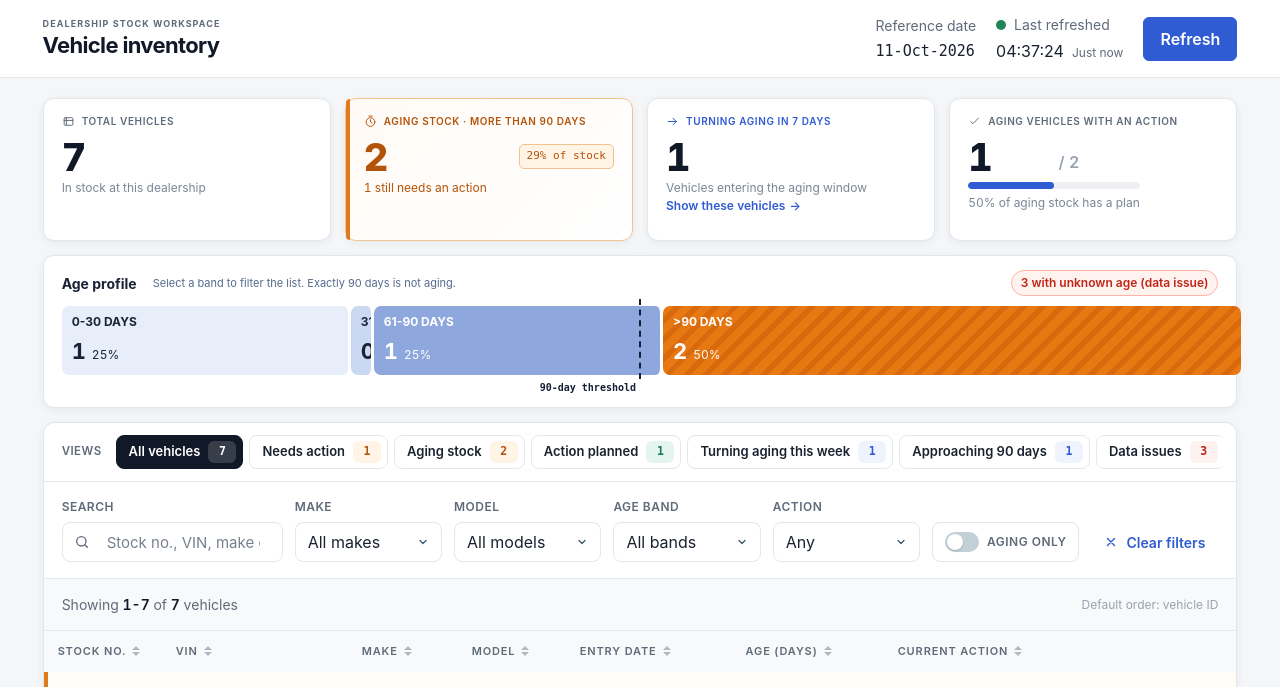
Test: App › shows the action filter, updates results, count, and a removable action chip
Expected: the element named "Inventory filters" is shown, [44,482,1236,579]
Expected: the button "Clear filters" is shown, [1092,522,1218,562]
Select "No action yet" in the dropdown labelled "Action" at (846, 542), box [773,522,920,562]
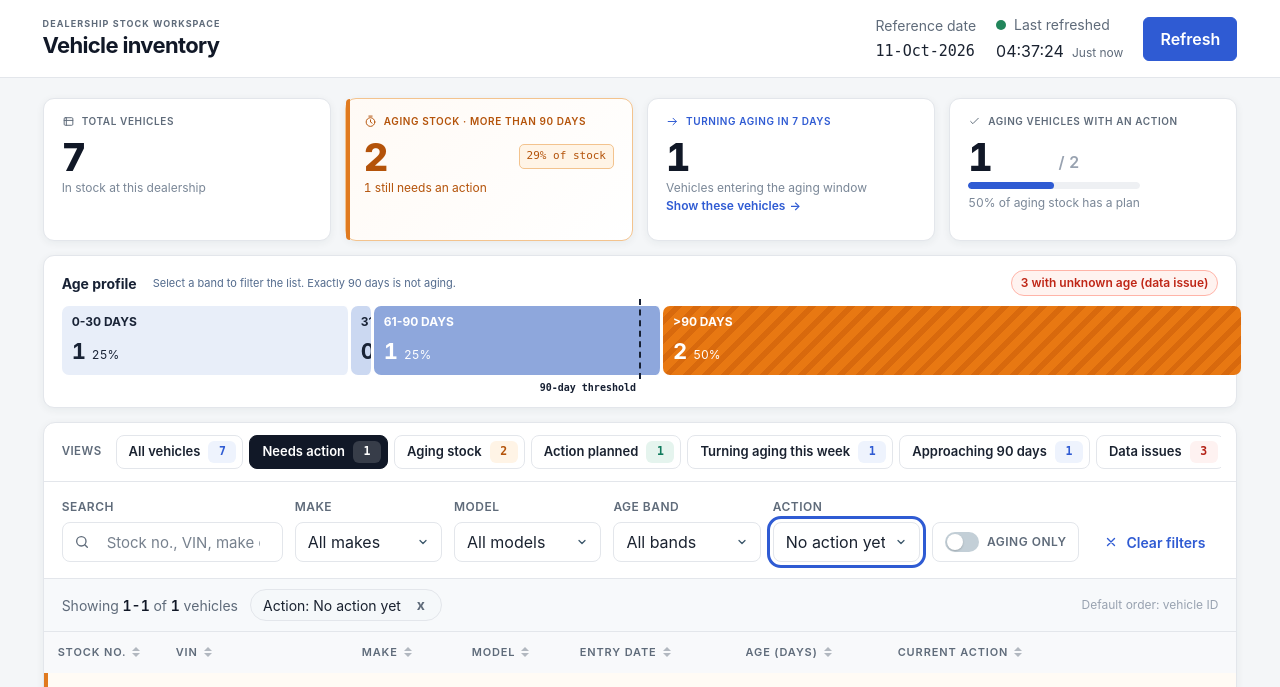
Expected: the message shows "Showing 1-1 of 1", [62,594,238,616]
Expected: the text "Action: No action yet" is shown, [263,594,401,616]
Select "Has an action" in the dropdown labelled "Action" at (846, 542), box [773,522,920,562]
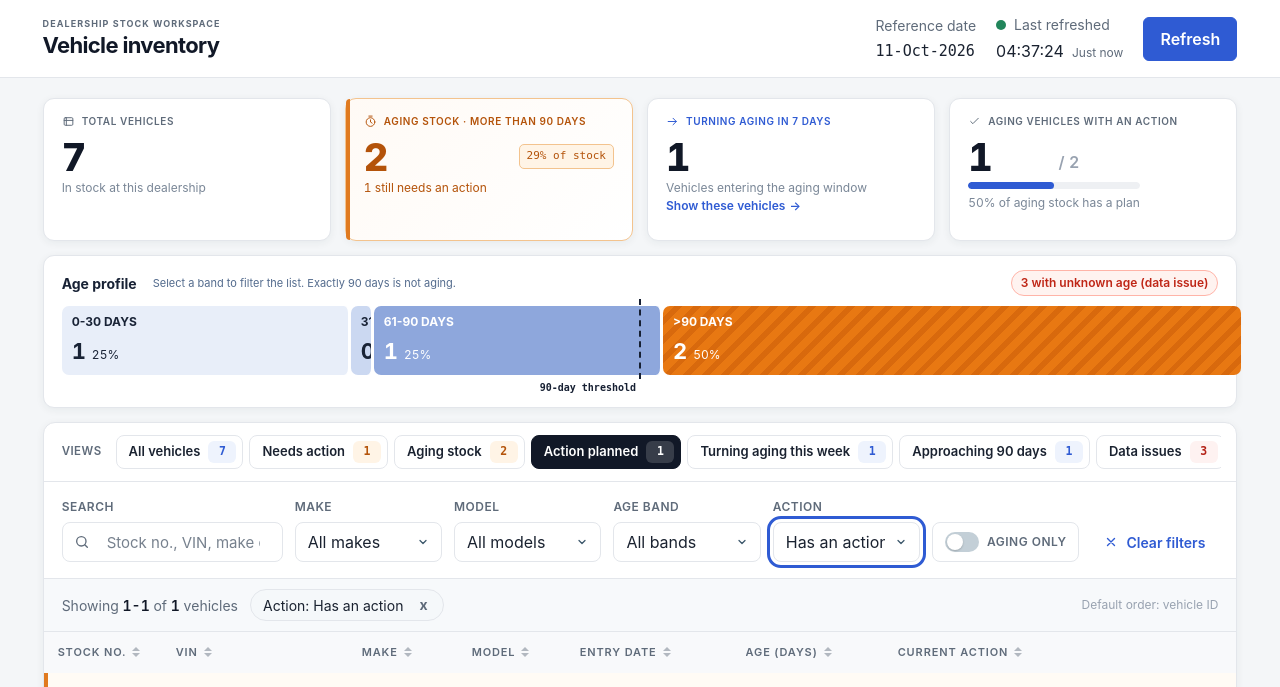
Expected: the message shows "Showing 1-1 of 1", [62,594,238,616]
Expected: the text "Action: Has an action" is shown, [263,594,403,616]
Click the button named "Remove Action: Has an action filter".
click(423, 605)  # box [411,593,435,617]
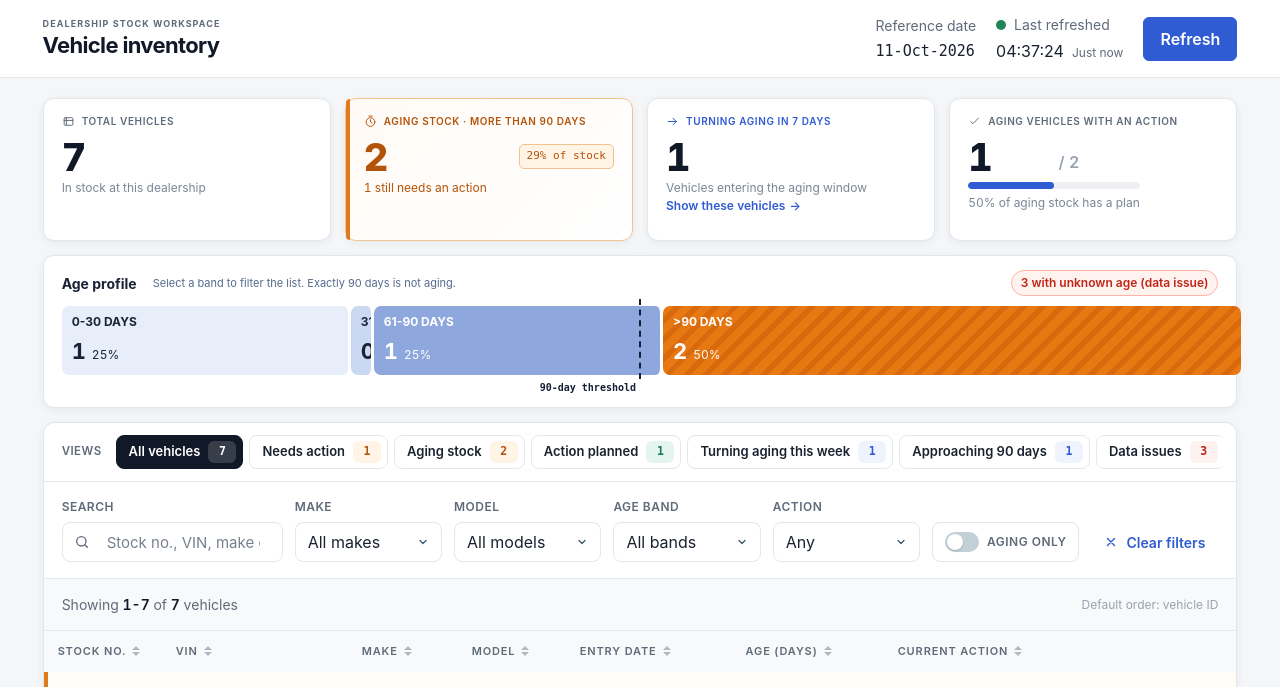
Expected: the message shows "Showing 1-7 of 7", [62,594,238,615]
Expected: the number of rows is 8
